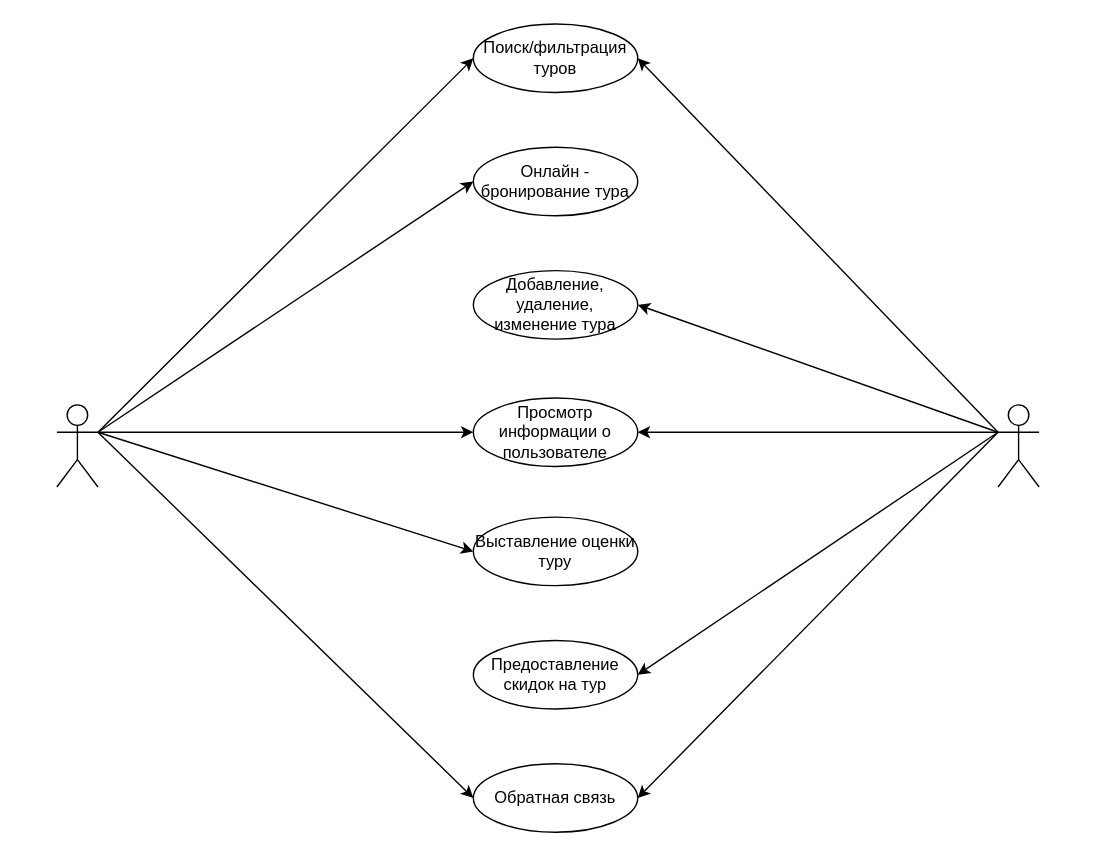
The diagram is 1093 pixels wide and 856 high, and some of its shapes have lost their labels. Here are the shapes that lost their labels. From the top down, the centre of each, then its label:
the point at 76,445: Пользователь
the point at 1018,445: Тур-оператор
